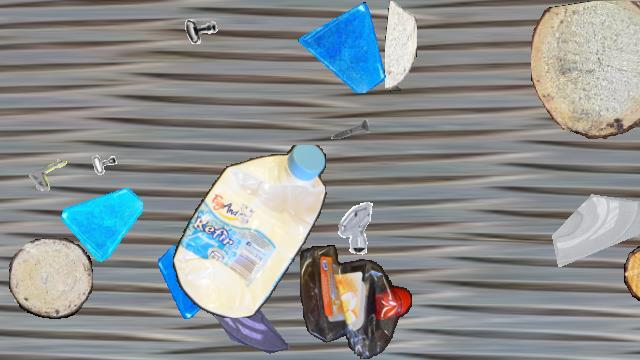glass: (548, 174, 640, 266), (298, 1, 390, 93), (205, 275, 289, 359), (61, 180, 143, 262), (158, 243, 234, 319)
metal: (25, 141, 85, 201), (324, 197, 382, 255), (79, 151, 129, 201), (329, 108, 371, 150), (181, 9, 221, 49), (630, 98, 640, 140)
plastic: (172, 145, 328, 317), (300, 245, 412, 359)
wood: (531, 1, 640, 139), (9, 238, 93, 318), (385, 1, 417, 91), (624, 241, 640, 305)
